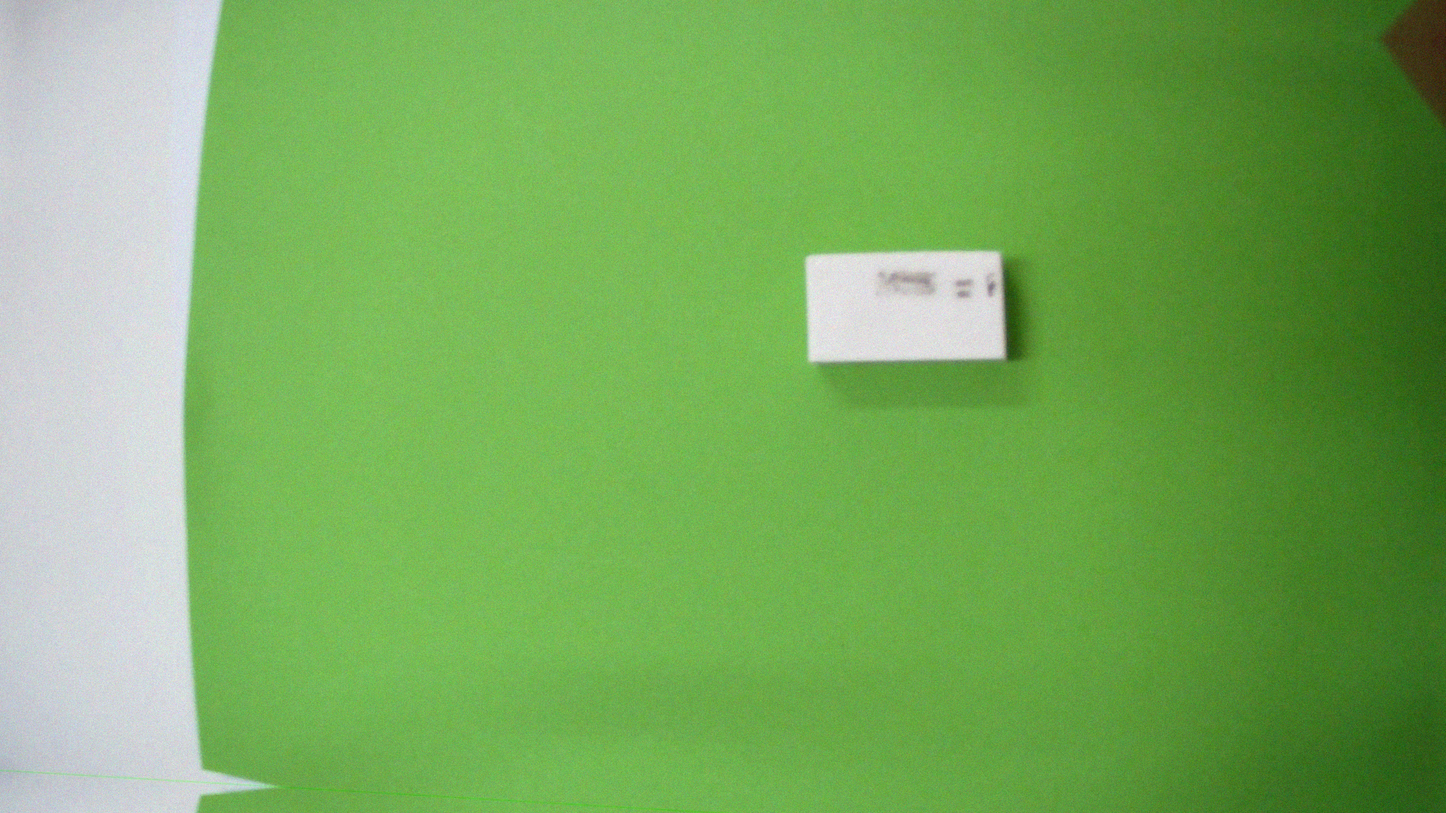gom: (798, 227, 1016, 385)
